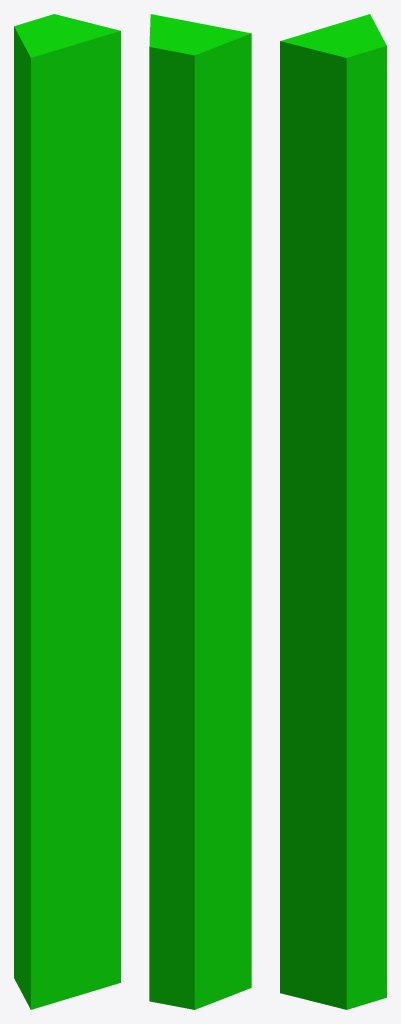
3 views of the same model, side by side, from view 1: azimuth 90°, elevation 25°; view 2: azimuth 210°, elevation 25°; view 3: azimuth 270°, elevation 25° (orthographic).
Visible parts, largest first — view 1: Plane.016; view 2: Plane.016; view 3: Plane.016.
Part boxes in pixels (x1,y1,x2,y2): Plane.016: (14,14,120,1009); Plane.016: (149,14,251,1009); Plane.016: (280,14,386,1009).
Bounding box in the file's own units: 1069 × 10789 × 1097.
